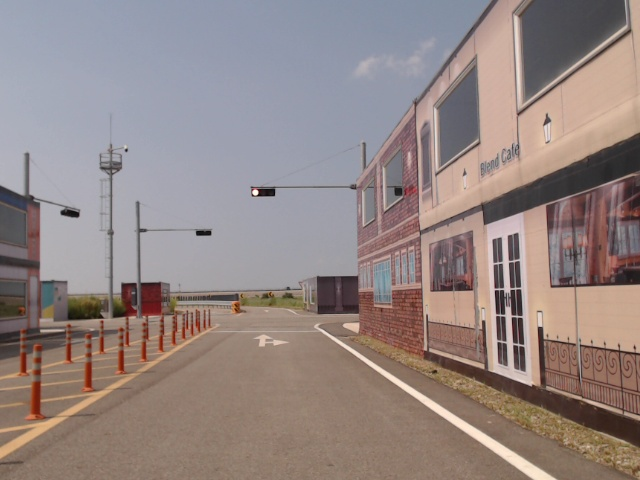red_3: (252, 188, 276, 196)
